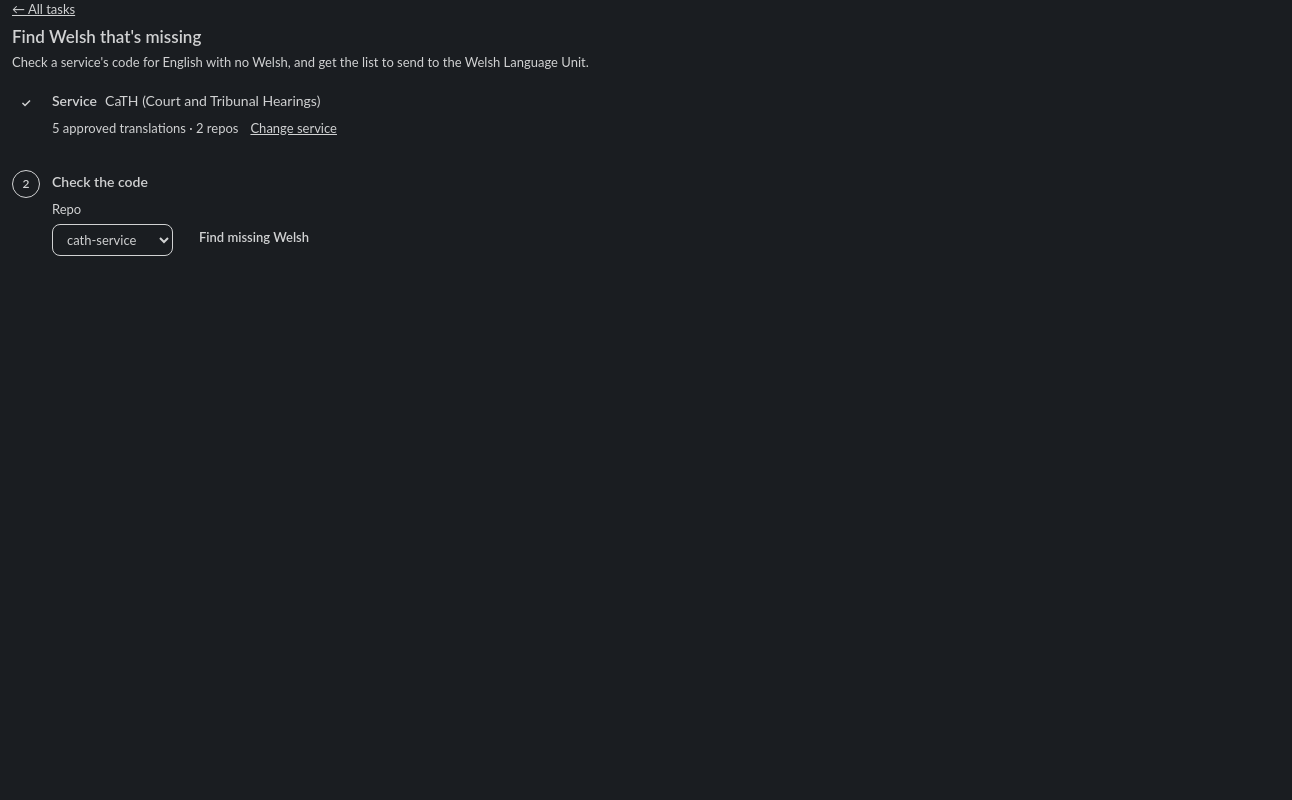
it: WelshPage, the less common paths › should start the scan afresh for another repo, and let a choice be taken back
The image size is (1292, 800).
Expected: the text "5 approved translations · 2 repos" is shown, left=52, top=118, right=238, bottom=138
Select "cath-frontend" in the dropdown labelled "Repo": (112, 240) left=52, top=224, right=173, bottom=256
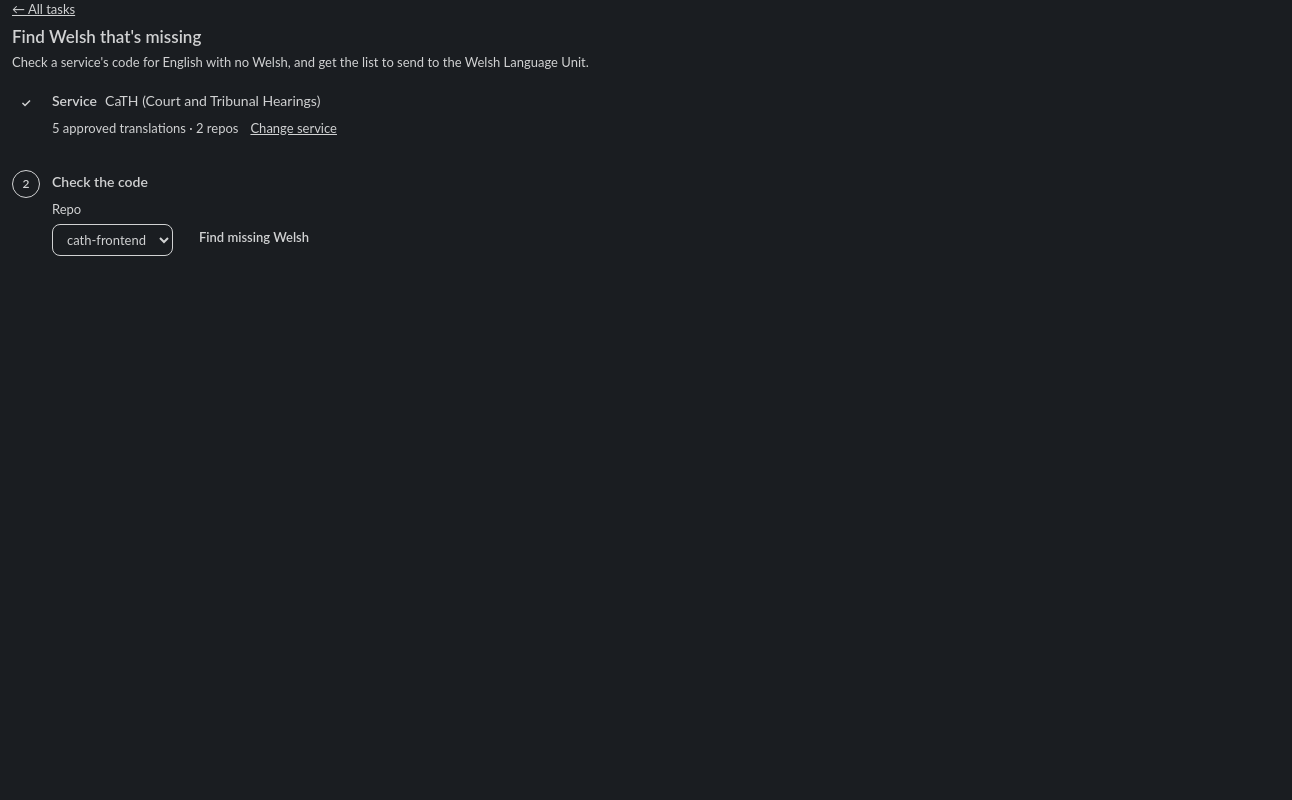
Click the button "Find missing Welsh": (254, 238) left=185, top=220, right=323, bottom=256
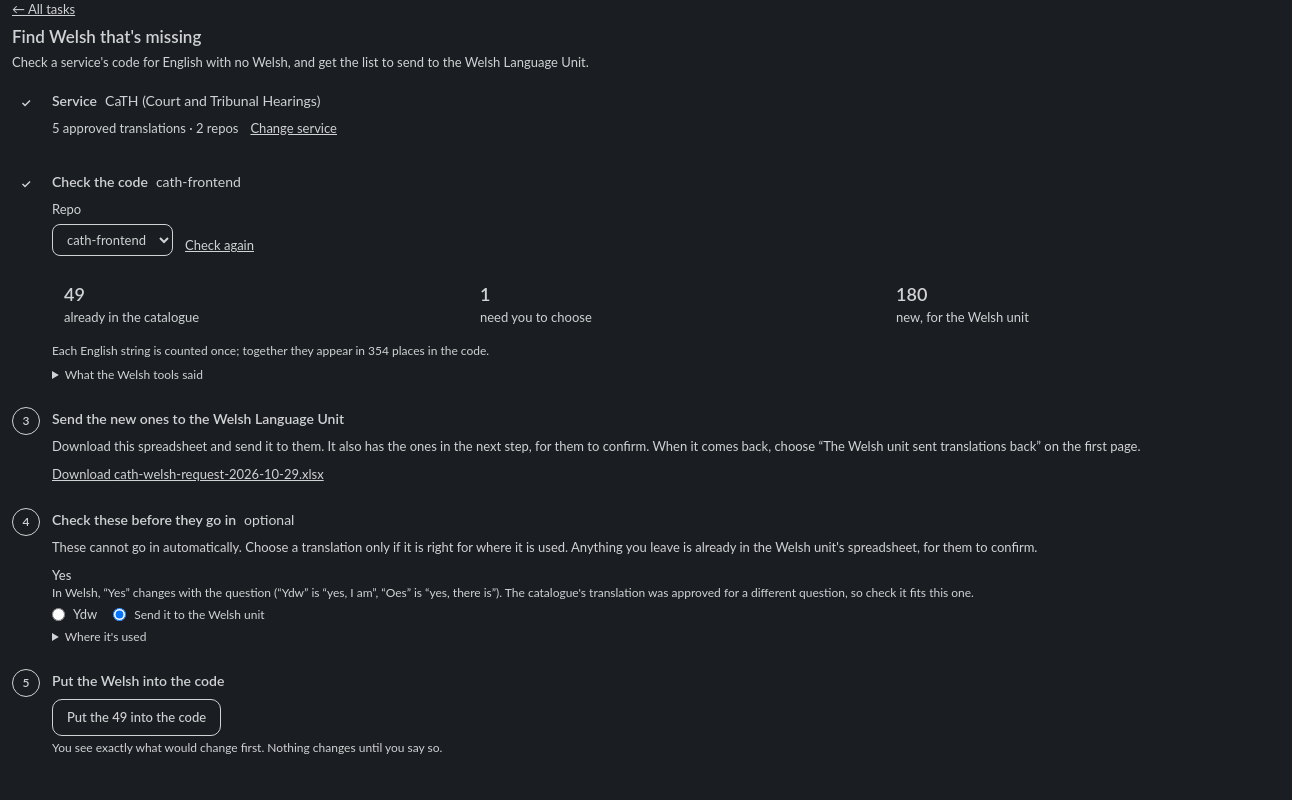
Click the radio button labelled "Ydw": (58, 615) left=52, top=608, right=65, bottom=621
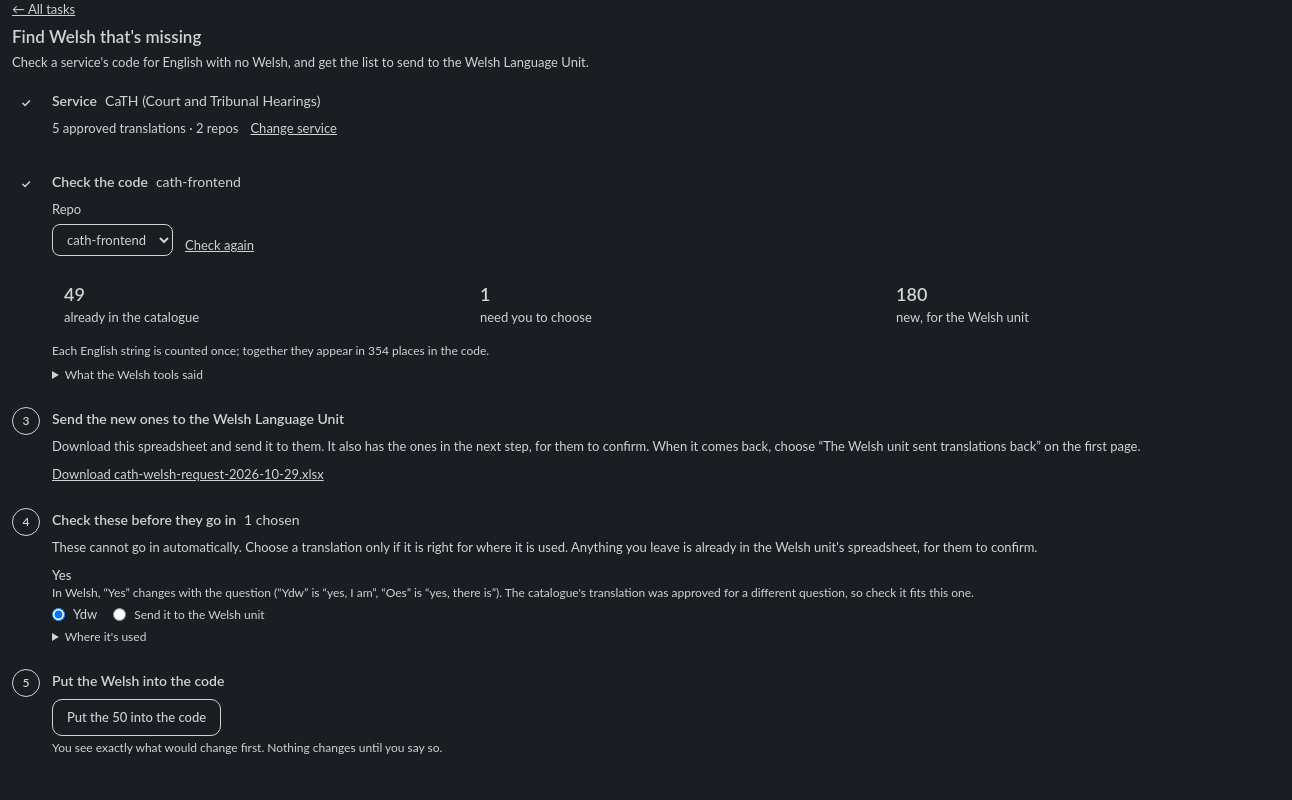
Click the radio button labelled "Send it to the Welsh unit": (120, 615) left=113, top=608, right=126, bottom=621
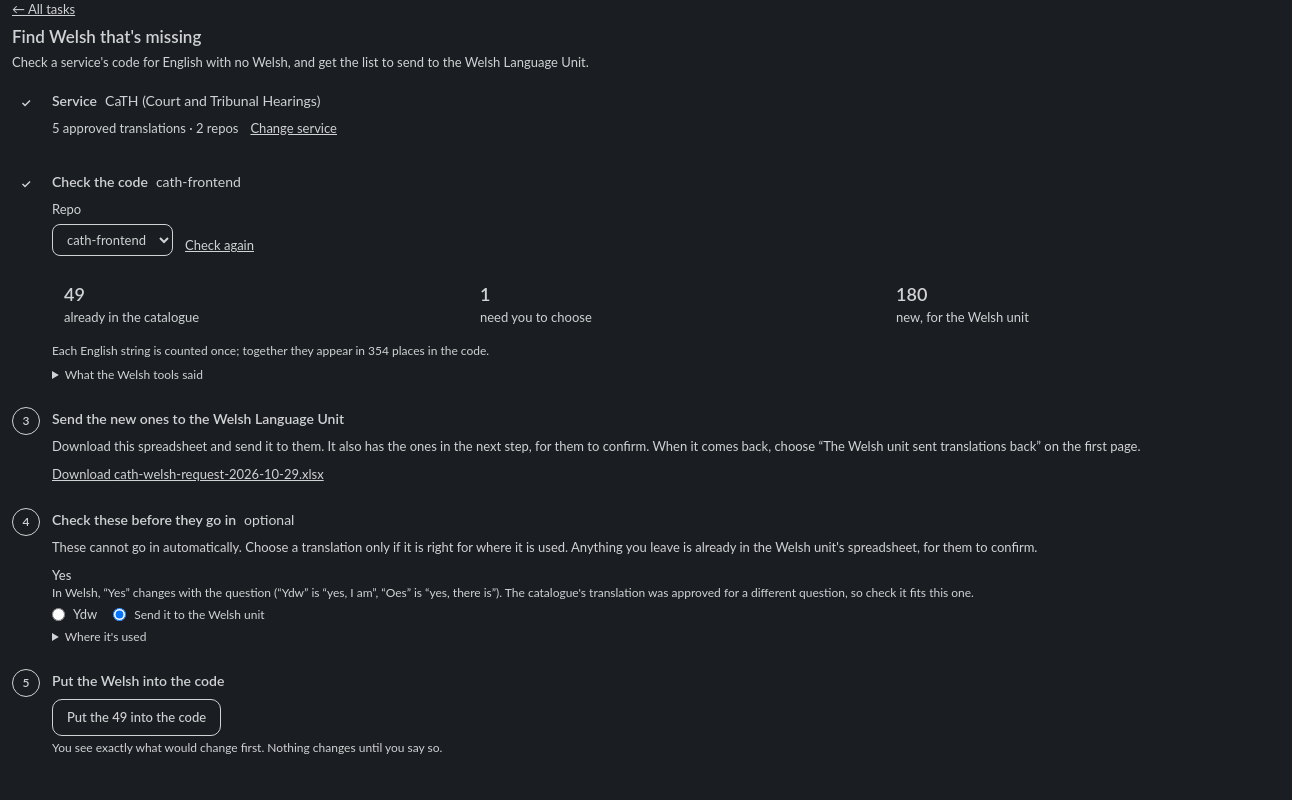
Click the button "Put the 49 into the code": (137, 717) left=52, top=698, right=221, bottom=736
(page scrolled)
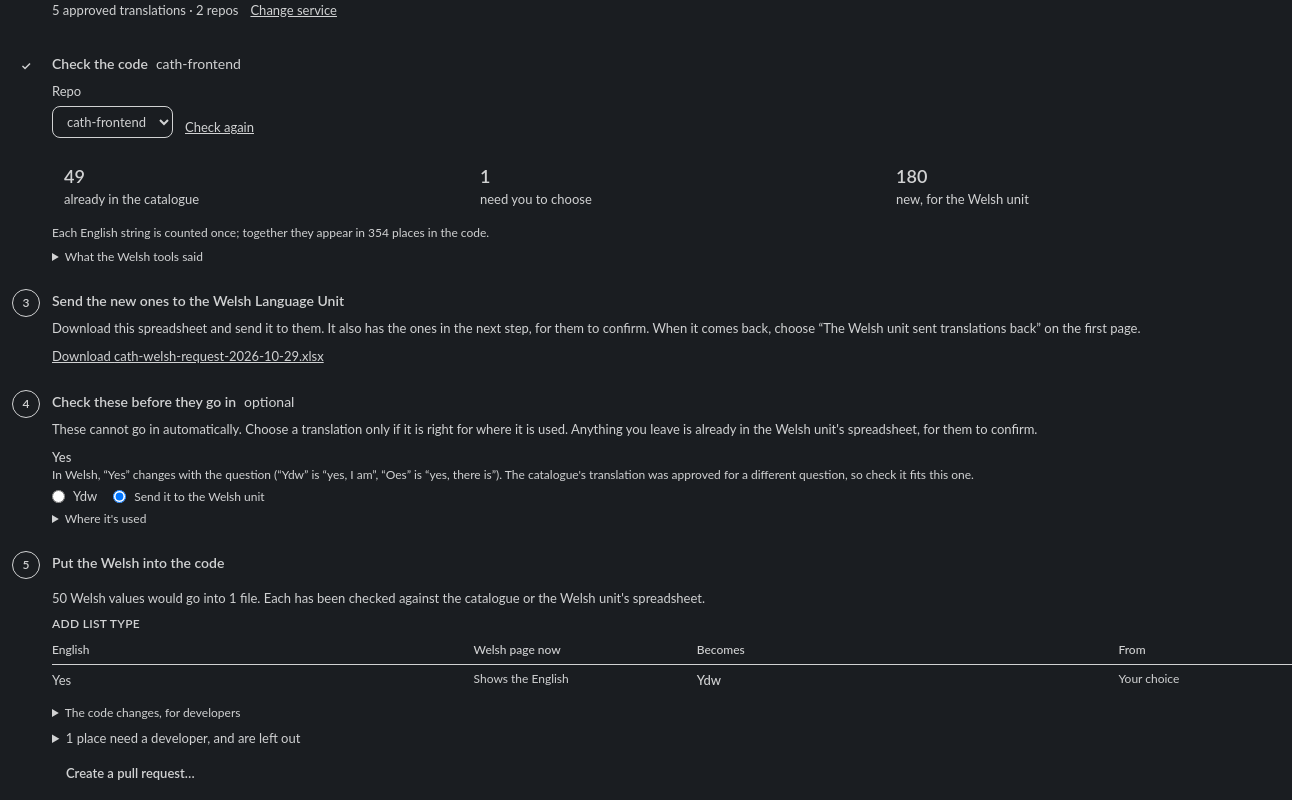
Result: the text "50 Welsh values" is shown at left=52, top=590, right=705, bottom=606
Result: the heading "1 place need a developer, and are left out" is shown at left=66, top=730, right=300, bottom=746
